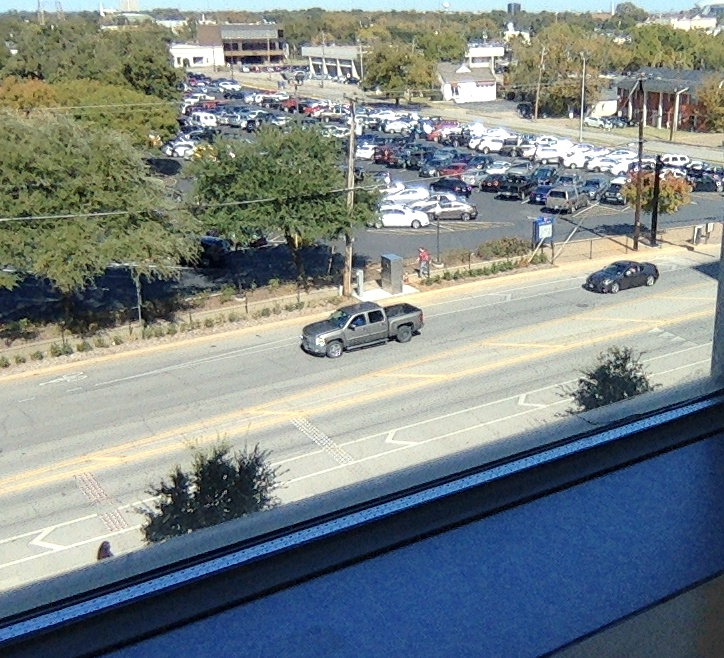car: (300, 300, 424, 358)
